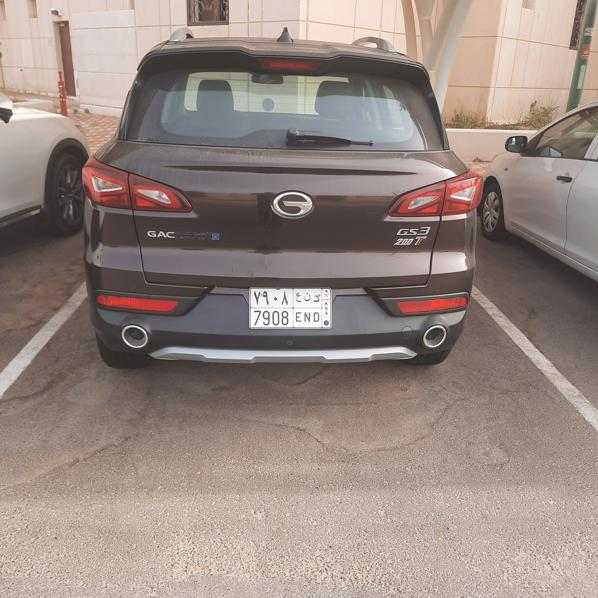numberplate: (250, 287, 332, 329)
